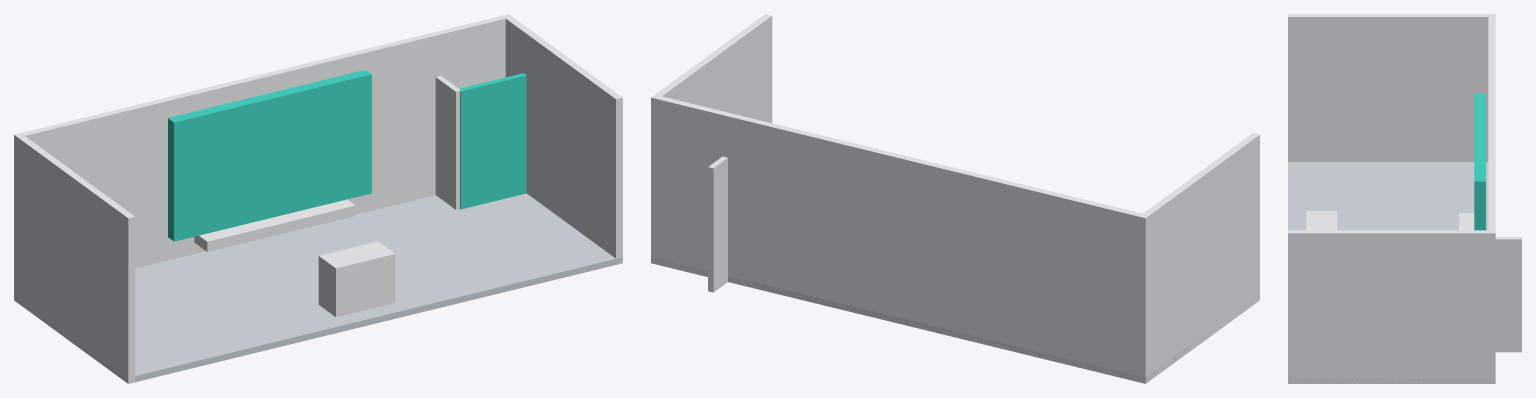
The picture shows the model from 3 angles, left to right: view 1: azimuth 30°, elevation 25°; view 2: azimuth 150°, elevation 25°; view 3: azimuth 270°, elevation 25°; orthographic projection. The views are drawn at different scales.
Parts seen in each view (by area): view 1: Exhibition Booth Concept; view 2: Exhibition Booth Concept; view 3: Exhibition Booth Concept.
Boxes of the visible parts, x1,y1,x2,y2 form: Exhibition Booth Concept: (14,14,622,383); Exhibition Booth Concept: (651,14,1259,383); Exhibition Booth Concept: (1288,14,1521,383).
Size of the model in its own units: 10 by 3.2 by 4.51.
